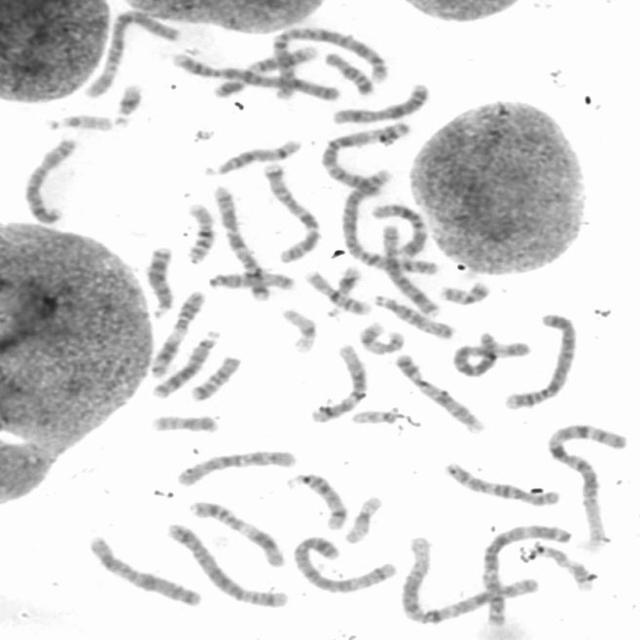A1: (402, 538, 540, 629), (542, 418, 627, 552)
A2: (338, 166, 443, 276), (266, 23, 388, 101)
A3: (476, 520, 573, 629), (316, 120, 413, 198)
B4: (168, 49, 344, 104), (500, 309, 578, 412)
B5: (162, 520, 289, 609), (289, 533, 398, 594)
C10: (441, 458, 562, 508), (173, 447, 298, 488)
C11: (187, 497, 286, 569), (148, 286, 207, 379)
C12: (307, 340, 369, 424), (371, 201, 430, 262)
C6: (84, 8, 184, 98), (448, 332, 532, 378)
C7: (208, 182, 272, 301), (260, 160, 325, 265)
C8: (378, 222, 444, 318), (18, 134, 80, 226)
C9: (392, 351, 486, 436), (212, 44, 319, 99)
D13: (149, 327, 222, 401), (143, 243, 175, 319)
D14: (200, 136, 304, 178), (282, 471, 348, 532)
D15: (371, 292, 456, 342), (204, 268, 297, 292)
E16: (302, 268, 372, 316), (182, 200, 217, 264)
E17: (518, 540, 596, 593), (355, 319, 407, 356)
E18: (187, 353, 242, 402), (320, 49, 375, 97)
F19: (342, 493, 384, 545), (278, 305, 320, 354)
F20: (148, 412, 220, 434), (437, 279, 493, 306)
G21: (110, 81, 145, 127), (332, 264, 362, 297)
G22: (43, 111, 114, 133), (347, 406, 399, 427)
X: (85, 532, 205, 609), (328, 81, 431, 126)
